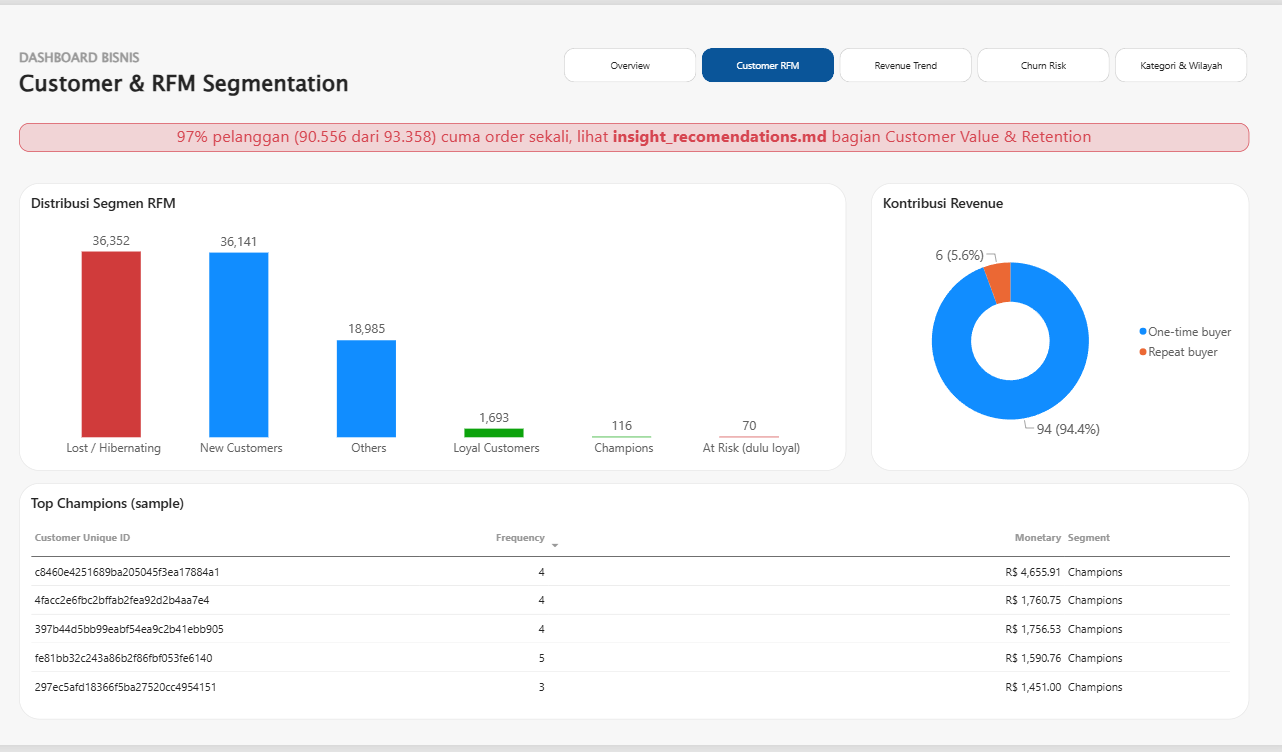

The dashboard page shown, as its layout file describes it:
{"tool":"powerbi","page":{"name":"Customer RFM","canvas":[1920,1080],"ordinal":1},"visuals":[{"type":"clusteredColumnChart","title":"Distribusi Segmen RFM","fields":{"Category":["RFM.rfm_segment"],"Y":["CountNonNull(RFM.customer_unique_id)"]},"box":[61.7,260,1206.7,420],"z":0},{"type":"donutChart","title":"Kontribusi Revenue","fields":{"Category":["BuyerType.customer_type"],"Y":["Sum(BuyerType.pct_revenue)"]},"box":[1305,260,551.7,420],"z":1000},{"type":"tableEx","title":"Top Champions (sample)","fields":{"Values":["RFM.customer_unique_id","Sum(RFM.frequency)","Sum(RFM.monetary)","RFM.rfm_segment"]},"box":[61.7,696.7,1795,345],"z":2000},{"type":"textbox","box":[61.7,171.7,1795,41.7],"z":3000},{"type":"textbox","box":[61.7,63.3,766.7,80],"z":4000},{"type":"pageNavigator","box":[856.4,62.7,1000,50],"z":5000}]}

Visuals, with their boxes on the page's 1920x1080 design canvas (x1, y1, x2, y2). These are canvas units, not pixel positions in the 1282x752 screenshot, which may show the page scaled, cropped or inside an application window:
"Distribusi Segmen RFM" clusteredColumnChart: region(62, 260, 1268, 680)
"Kontribusi Revenue" donutChart: region(1305, 260, 1857, 680)
"Top Champions (sample)" tableEx: region(62, 697, 1857, 1042)
textbox: region(62, 172, 1857, 213)
textbox: region(62, 63, 828, 143)
pageNavigator: region(856, 63, 1856, 113)
